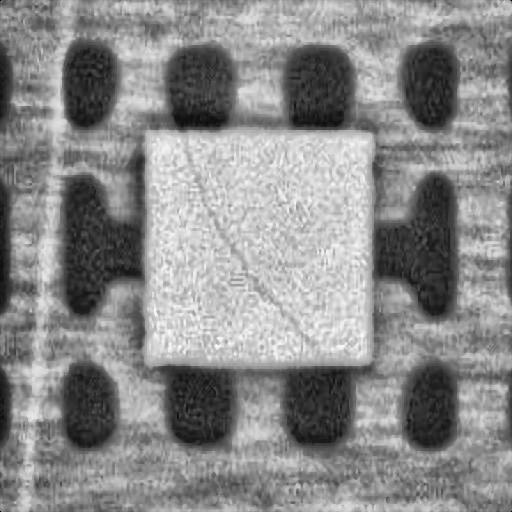DIE_CRACK: (181, 130, 312, 345)
